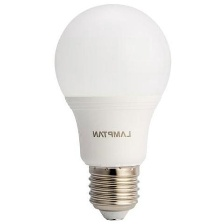light_bulb: (53, 1, 176, 224)
